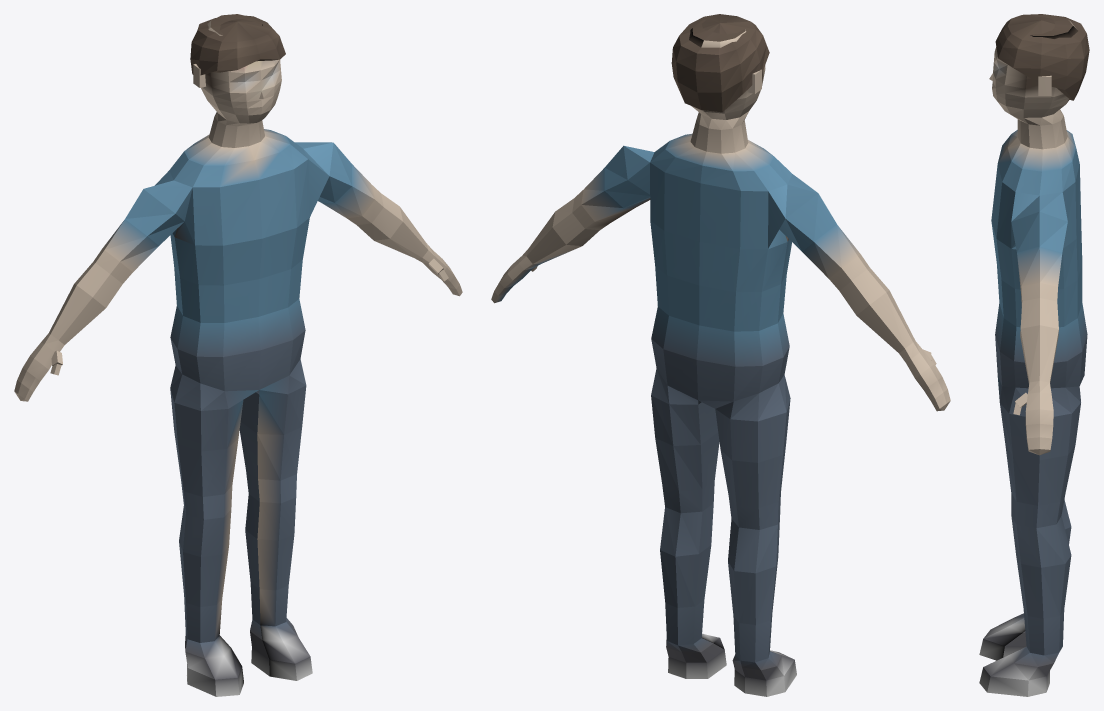
The model's file is char__pessoa__multidao_01.glb.
3 views of the same model, side by side, from view 1: azimuth 30°, elevation 25°; view 2: azimuth 150°, elevation 25°; view 3: azimuth 270°, elevation 25° (orthographic). The views are drawn at different scales.
Visible parts, largest first — view 1: char__pessoa__multidao_01; view 2: char__pessoa__multidao_01; view 3: char__pessoa__multidao_01.
Boxes of the visible parts, left/top/right/bottom form: char__pessoa__multidao_01: left=14, top=14, right=462, bottom=696; char__pessoa__multidao_01: left=491, top=14, right=950, bottom=696; char__pessoa__multidao_01: left=979, top=14, right=1089, bottom=696.
Size of the model in its own units: 1.26 by 1.77 by 0.271.
